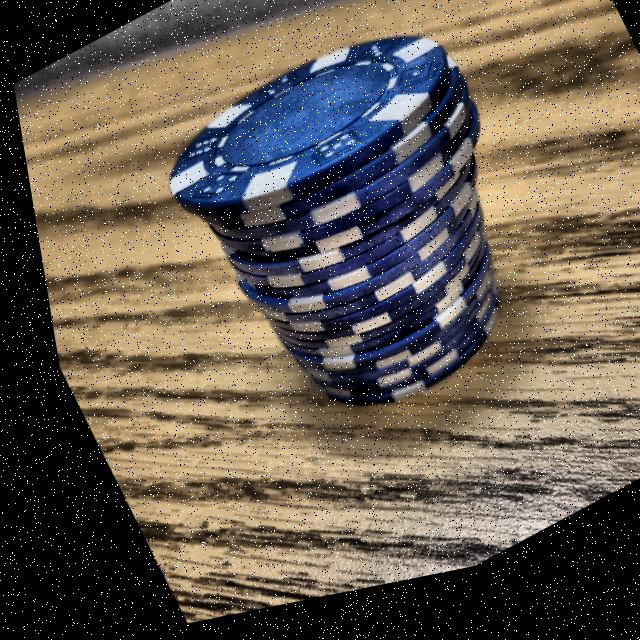Chip: (112, 0, 619, 521)
